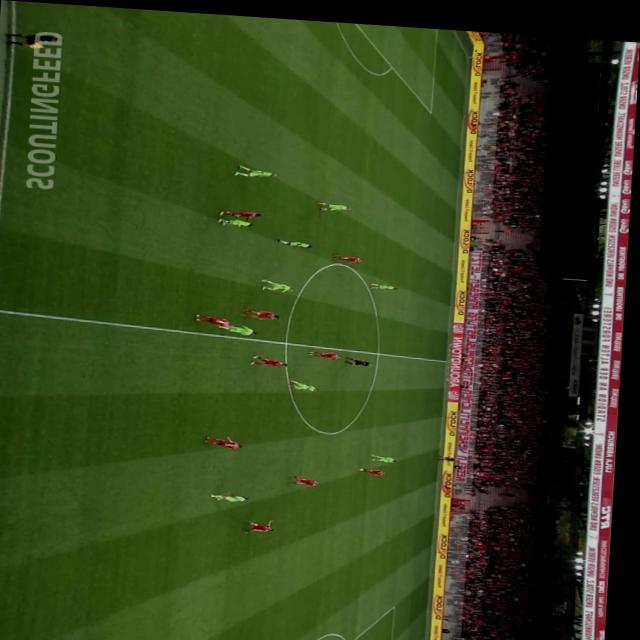player: (235, 161, 279, 175), (197, 311, 238, 325), (208, 432, 248, 446), (250, 514, 281, 532), (254, 351, 292, 365), (263, 275, 298, 290), (243, 304, 283, 317), (216, 487, 255, 500), (222, 320, 261, 332), (293, 470, 326, 483), (221, 206, 263, 216), (318, 197, 354, 208), (291, 375, 323, 387), (221, 214, 256, 224), (278, 235, 315, 244), (311, 346, 345, 355), (374, 448, 403, 458), (335, 250, 366, 258), (372, 278, 400, 286), (364, 463, 390, 471)
referee: (5, 30, 62, 50), (348, 352, 376, 362), (442, 448, 461, 455)
